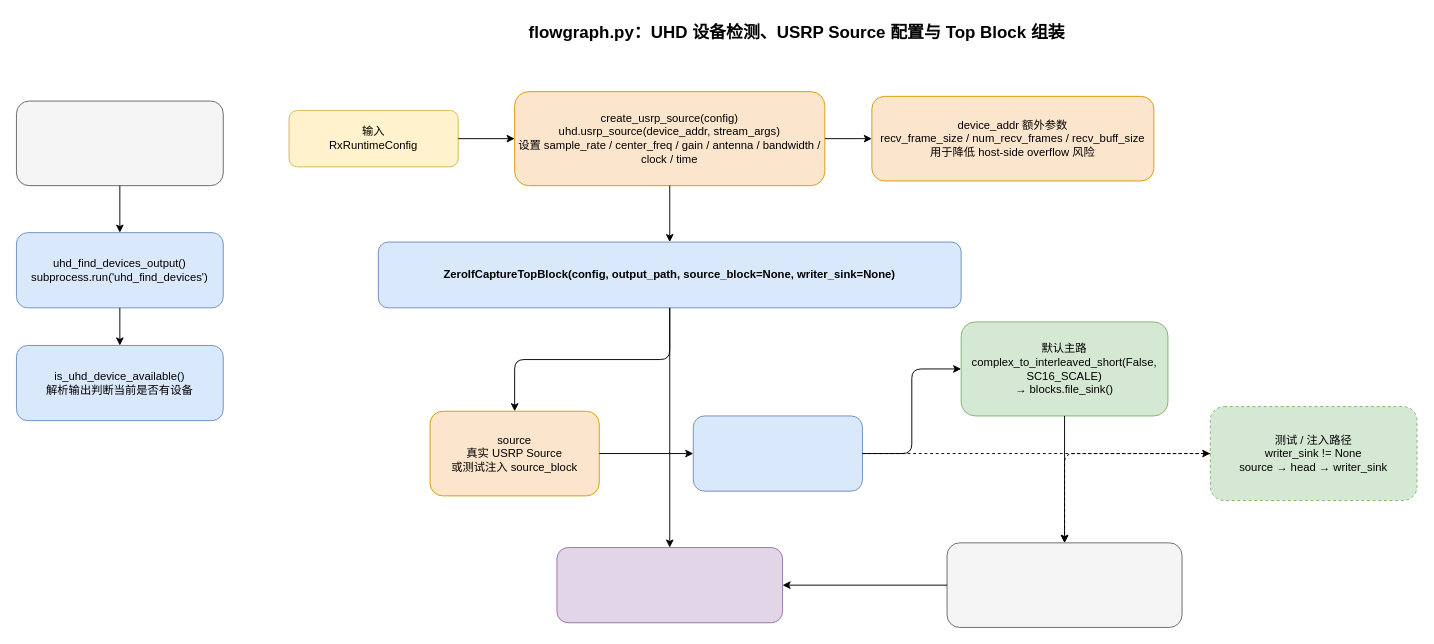
Some shapes in this 1434 by 644 pixel diagram are drawn without their labels. Each missing label, with the centre of its shape:
blocks.head(gr.sizeof_gr_complex, config.capture_samples) 精确截断总样本数: point (777, 453)
build_capture_top_block() 返回 (tb, tb.capture_sink): point (669, 585)
CaptureSinkHandle close_fn + samples_written_fn 统一 file_sink 与自定义 sink 的接口: point (1064, 584)
环境能力 HAVE_GNURADIO / HAVE_UHD 动态选择基类: point (119, 143)
